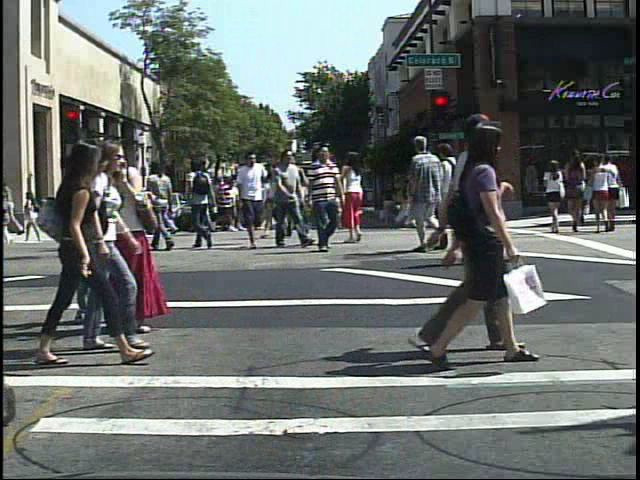person: (422, 113, 546, 375), (29, 128, 154, 370), (434, 108, 525, 362), (93, 131, 172, 335), (83, 136, 139, 353), (82, 134, 127, 333), (458, 127, 512, 264), (404, 132, 449, 259), (297, 143, 346, 255), (308, 140, 350, 252), (437, 136, 476, 256), (267, 143, 305, 252), (236, 146, 272, 255), (339, 146, 377, 248), (147, 156, 182, 253), (185, 154, 217, 250), (541, 154, 569, 235), (214, 168, 235, 237), (64, 182, 85, 232)
